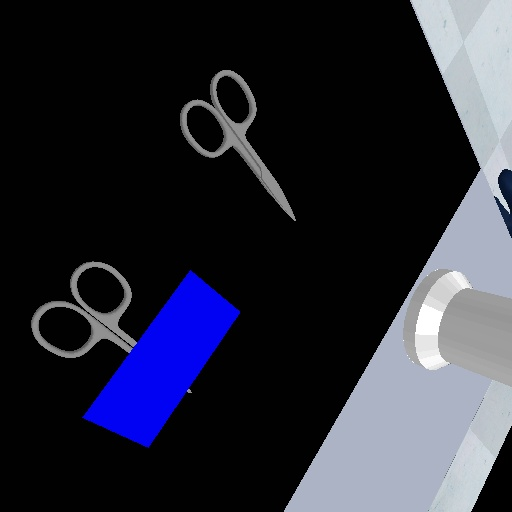tijera: (177, 65, 302, 228), (28, 258, 140, 360)
